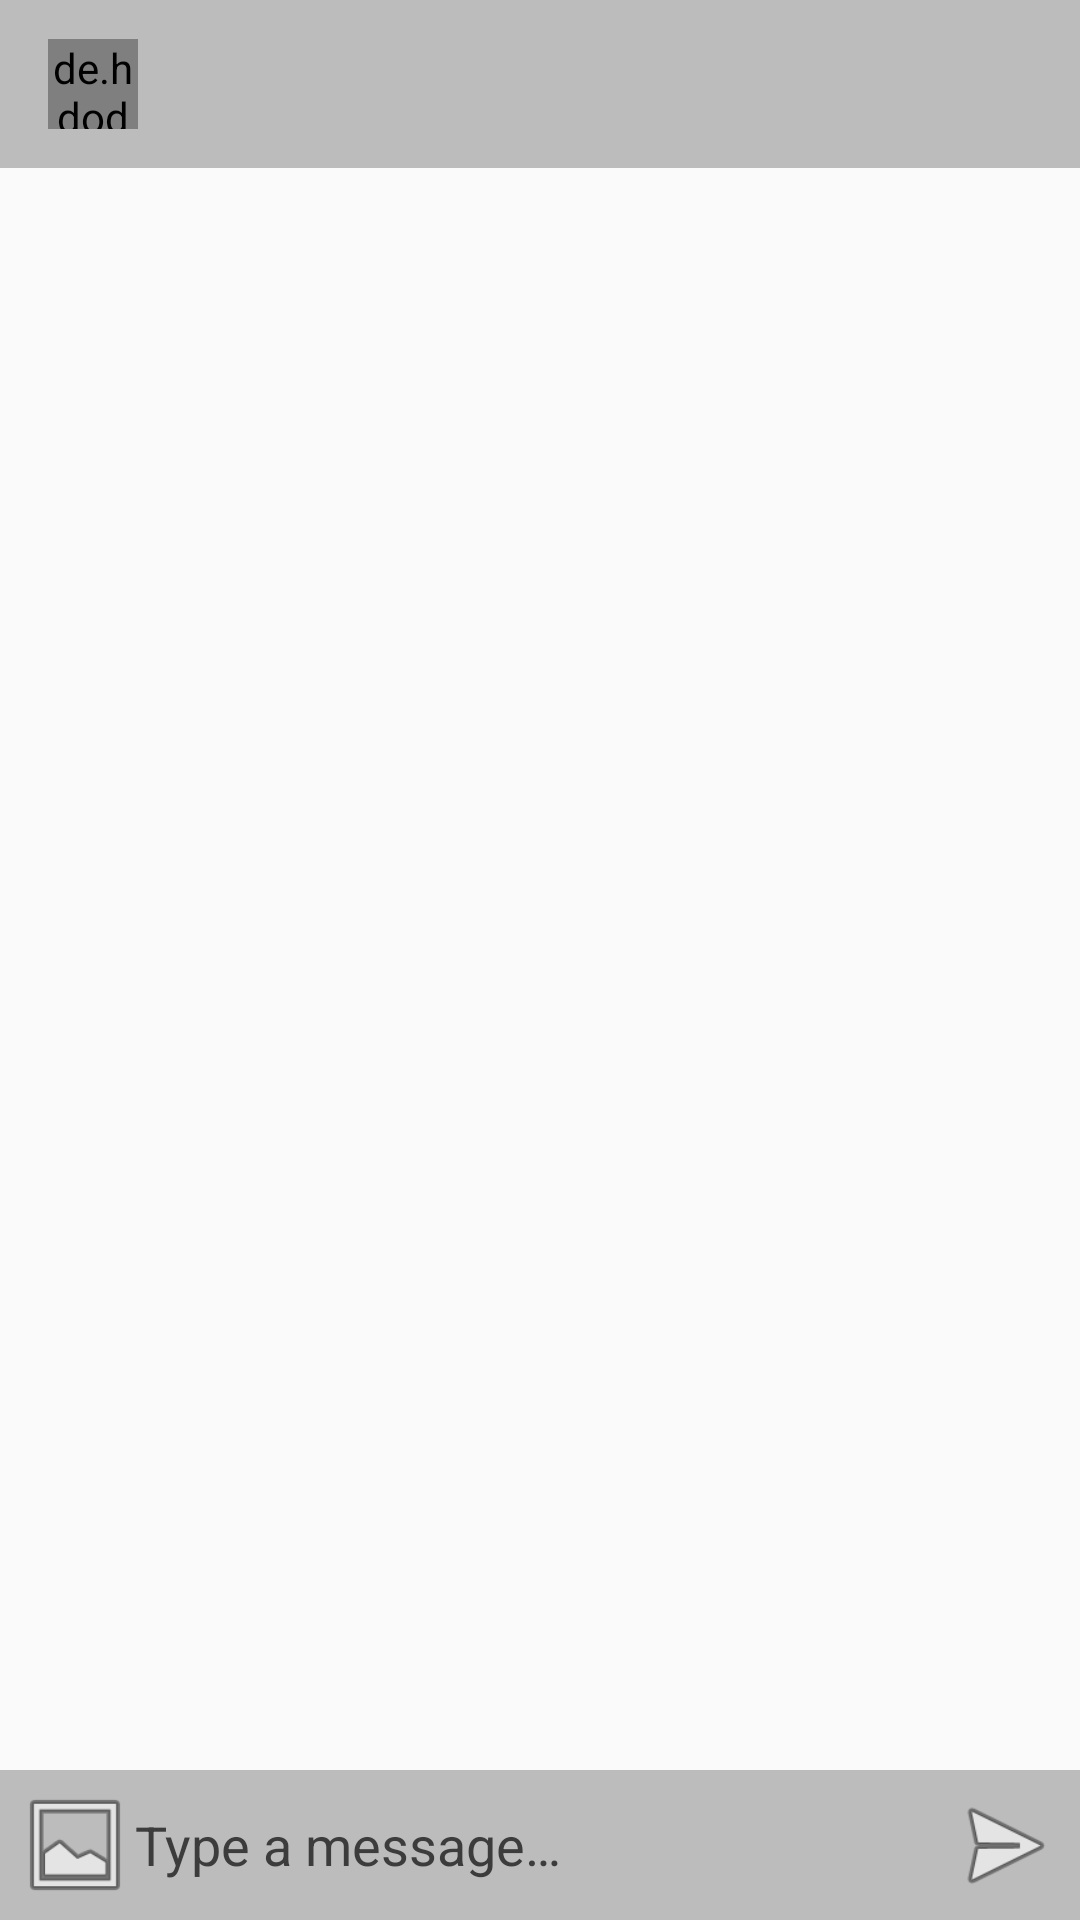

Icons on this 1080px×1920px Android screen, each with its box as (x1, y1, x2, y2):
gallery: (30, 1800, 120, 1890)
send: (968, 1808, 1044, 1883)
